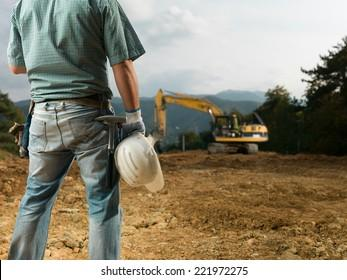gloves: (125, 109, 146, 134)
